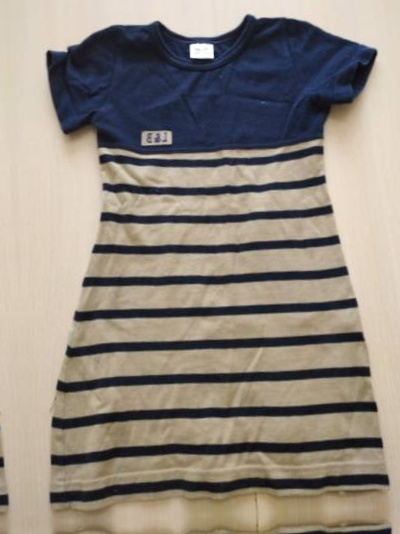Dress: (26, 0, 400, 514), (51, 514, 400, 534), (0, 9, 9, 534), (0, 534, 33, 534)
